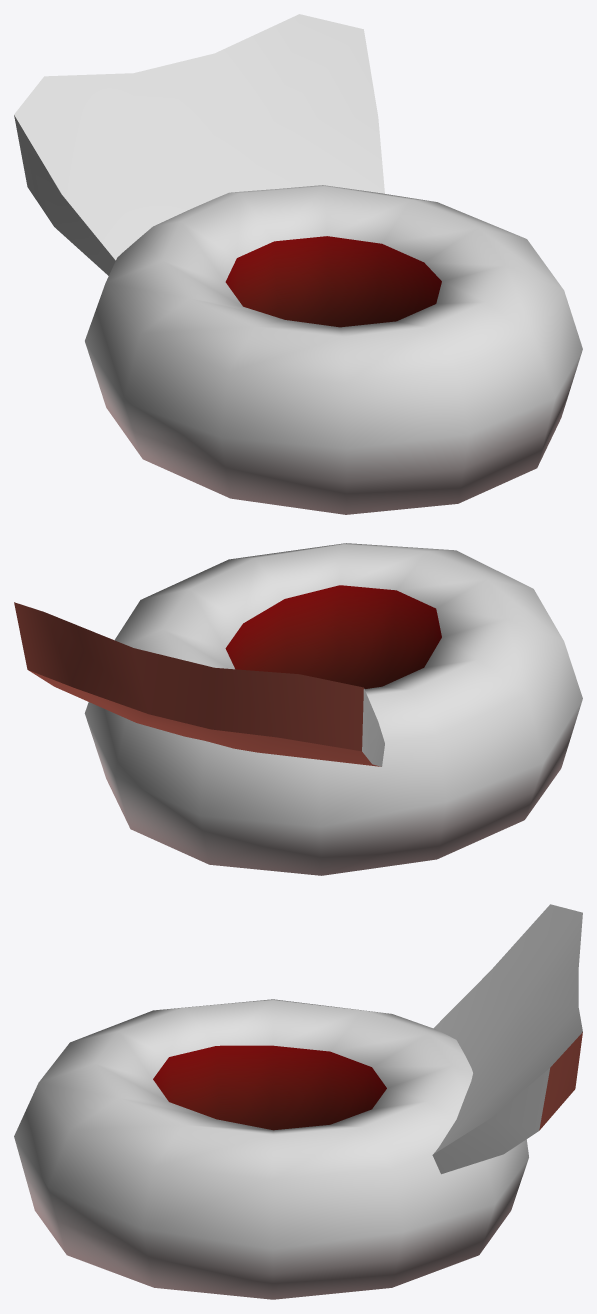
The model's file is McQueenTube.glb.
3 views of the same model, one above another, from view 1: azimuth 30°, elevation 25°; view 2: azimuth 150°, elevation 25°; view 3: azimuth 270°, elevation 25° (orthographic). The views are drawn at different scales.
Visible parts, largest first — view 1: McQueenTube; view 2: McQueenTube; view 3: McQueenTube.
Boxes of the visible parts, x1,y1,x2,y2 form: McQueenTube: [14, 14, 582, 514]; McQueenTube: [14, 543, 582, 875]; McQueenTube: [14, 904, 582, 1299].
Bounding box in the file's own units: 0.9311 × 0.5576 × 1.14.
